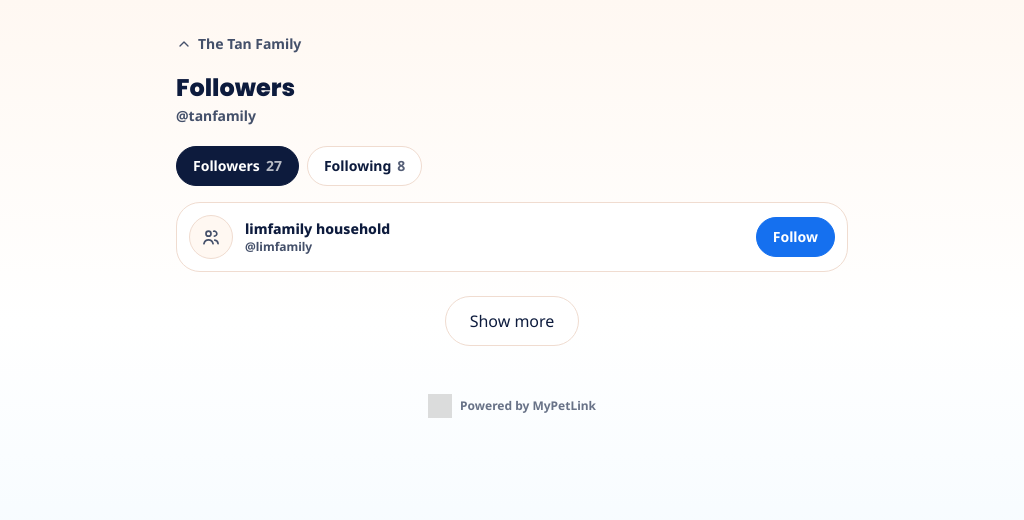
it: OwnerConnectionsView › pages with the cursor rather than an offset
Click the button with test id "social-account-list-more" at (512, 321), box x1=445 y1=296 x2=579 y2=346
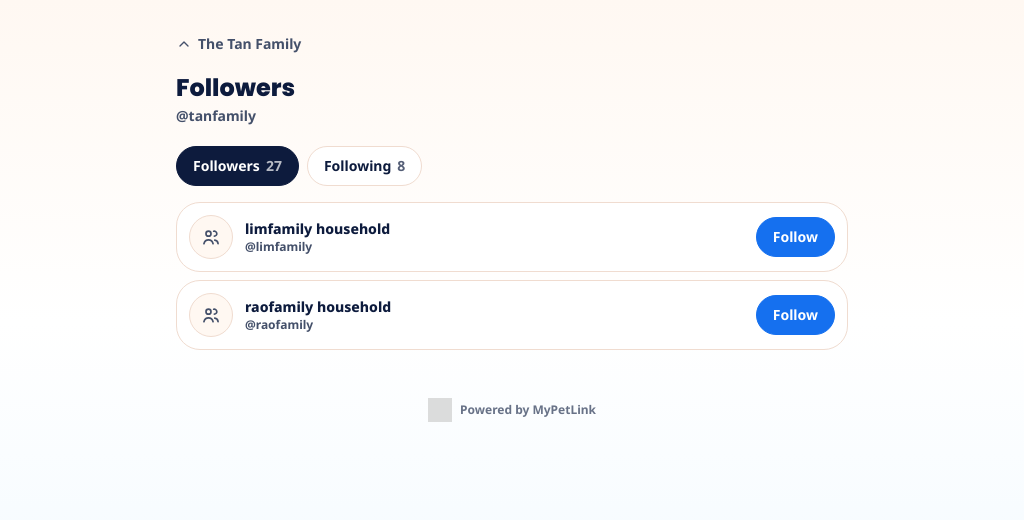
Expected: the text "@limfamily" is shown, x1=245 y1=238 x2=312 y2=255
Expected: the text "@raofamily" is shown, x1=245 y1=316 x2=313 y2=333
Expected: the button with test id "social-account-list-more" is gone
